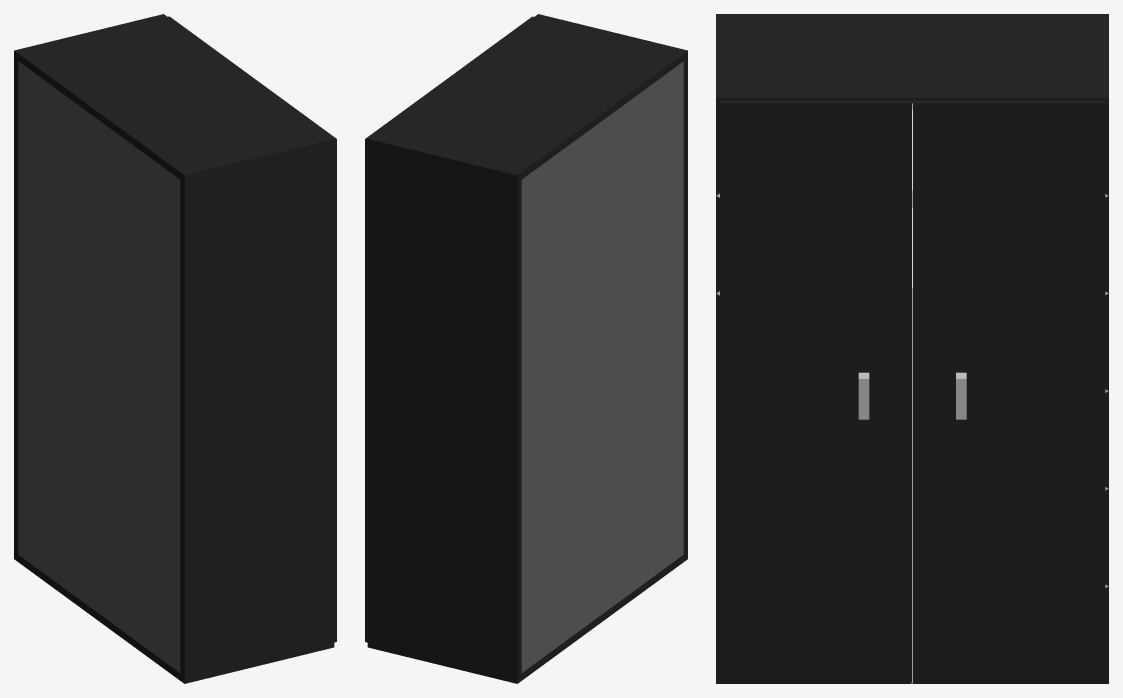
The model's file is wardrobe.gltf.
3 views of the same model, side by side, from view 1: azimuth 30°, elevation 25°; view 2: azimuth 150°, elevation 25°; view 3: azimuth 270°, elevation 25° (orthographic). The views are drawn at different scales.
Visible parts, largest first — view 1: Cube; view 2: Cube; view 3: Cube.
Boxes of the visible parts, x1,y1,x2,y2 form: Cube: (14,14,336,683); Cube: (365,14,687,683); Cube: (716,14,1108,683).
Bounding box in the file's own units: 0.6802 × 2 × 1.22.
Materials: 1 (1 with a texture image).
